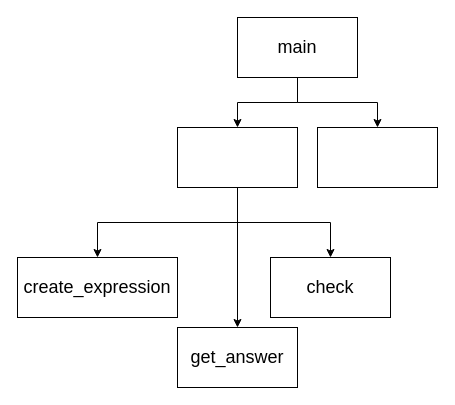
The diagram is 455 pixels wide and 405 high, and some of its shapes have lost their labels. The shapes that lost their labels are listed below. From the top down, each one's centre as x and y in pixels, then its label:
At (x=237, y=157): "to_file".
At (x=377, y=157): "check_answer".
